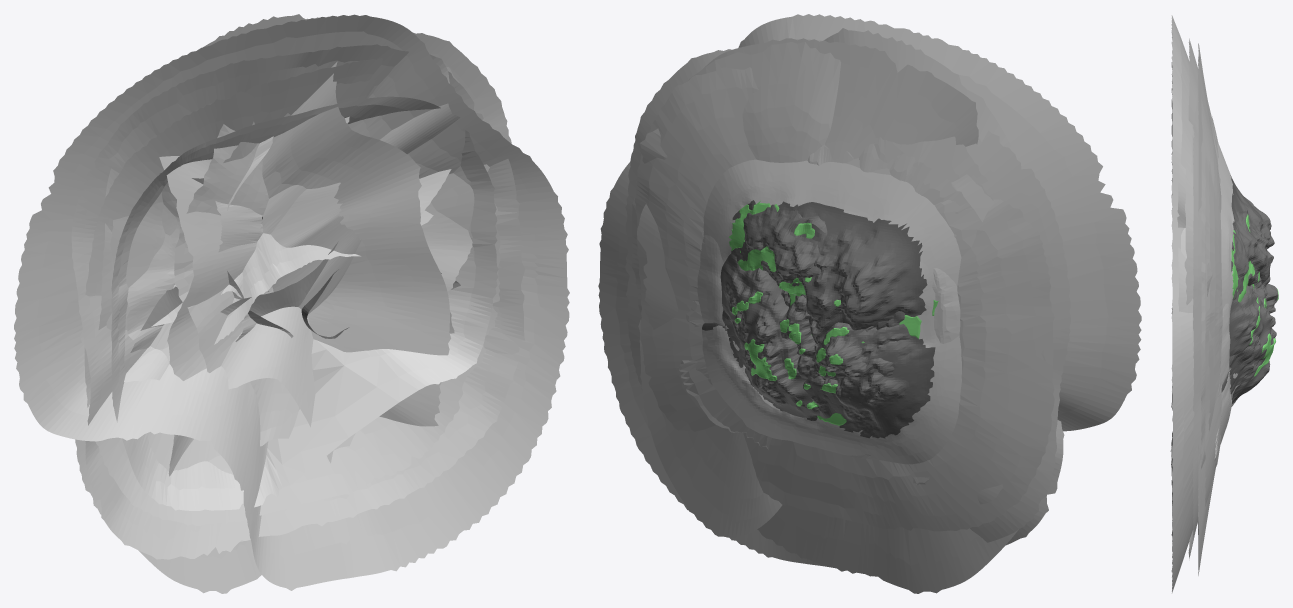
The model's file is Islands 2.fbx.
The picture shows the model from 3 angles, left to right: view 1: azimuth 30°, elevation 25°; view 2: azimuth 150°, elevation 25°; view 3: azimuth 270°, elevation 25°; orthographic projection. The views are drawn at different scales.
Parts seen in each view (by area): view 1: Island 14, Island 10, Island 07, Island 16, Island 11, Island 02, Island 21, Island 13, Island 09, Island 19, Island 18, Island 17 (+6 smaller); view 2: Island 20, Island 12, Island 14, Island 02, Island 07, Island 17, Island 21, Island 08, Island 05, Island 04, Island 15, Island 18 (+5 smaller); view 3: Island 14, Island 20, Island 12, Island 08, Island 17, Island 21, Island 05, Island 02, Island 11, Island 10, Island 07, Island 16 (+2 smaller).
Part boxes in pixels (<box>): Island 14: <box>14,14,569,590</box>; Island 10: <box>71,44,525,559</box>; Island 07: <box>98,14,450,593</box>; Island 16: <box>111,96,498,510</box>; Island 11: <box>84,58,500,525</box>; Island 02: <box>159,16,459,463</box>; Island 21: <box>174,124,355,450</box>; Island 13: <box>106,78,472,471</box>; Island 09: <box>270,113,361,314</box>; Island 19: <box>126,116,349,352</box>; Island 18: <box>150,210,433,364</box>; Island 17: <box>75,32,511,541</box>; Island 20: <box>634,67,1054,531</box>; Island 12: <box>702,159,961,464</box>; Island 14: <box>598,14,1141,576</box>; Island 02: <box>638,38,978,537</box>; Island 07: <box>757,28,1018,593</box>; Island 17: <box>625,49,1070,542</box>; Island 21: <box>632,42,840,312</box>; Island 08: <box>720,253,819,418</box>; Island 05: <box>736,158,993,380</box>; Island 04: <box>679,144,971,485</box>; Island 15: <box>637,204,1003,504</box>; Island 18: <box>639,128,1045,360</box>; Island 14: <box>1171,15,1261,592</box>; Island 20: <box>1205,149,1278,506</box>; Island 12: <box>1217,141,1274,443</box>; Island 08: <box>1229,285,1276,406</box>; Island 17: <box>1193,120,1236,537</box>; Island 21: <box>1201,91,1221,468</box>; Island 05: <box>1216,143,1270,302</box>; Island 02: <box>1198,43,1217,575</box>; Island 11: <box>1184,165,1266,308</box>; Island 10: <box>1177,162,1254,313</box>; Island 07: <box>1188,38,1215,558</box>; Island 16: <box>1170,228,1230,458</box>.
Bounding box in the file's own units: 446 × 441 × 89.94.
